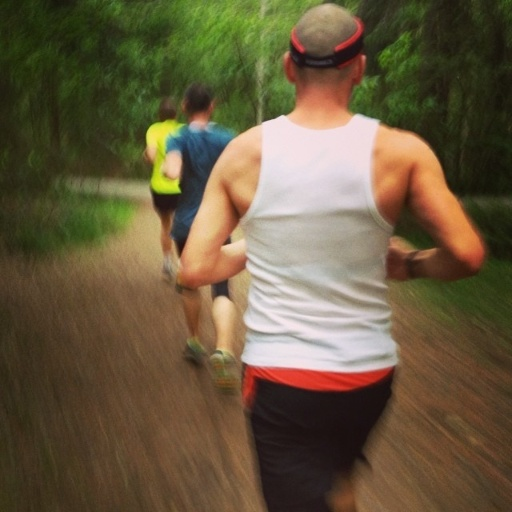hand: (385, 237, 403, 283)
